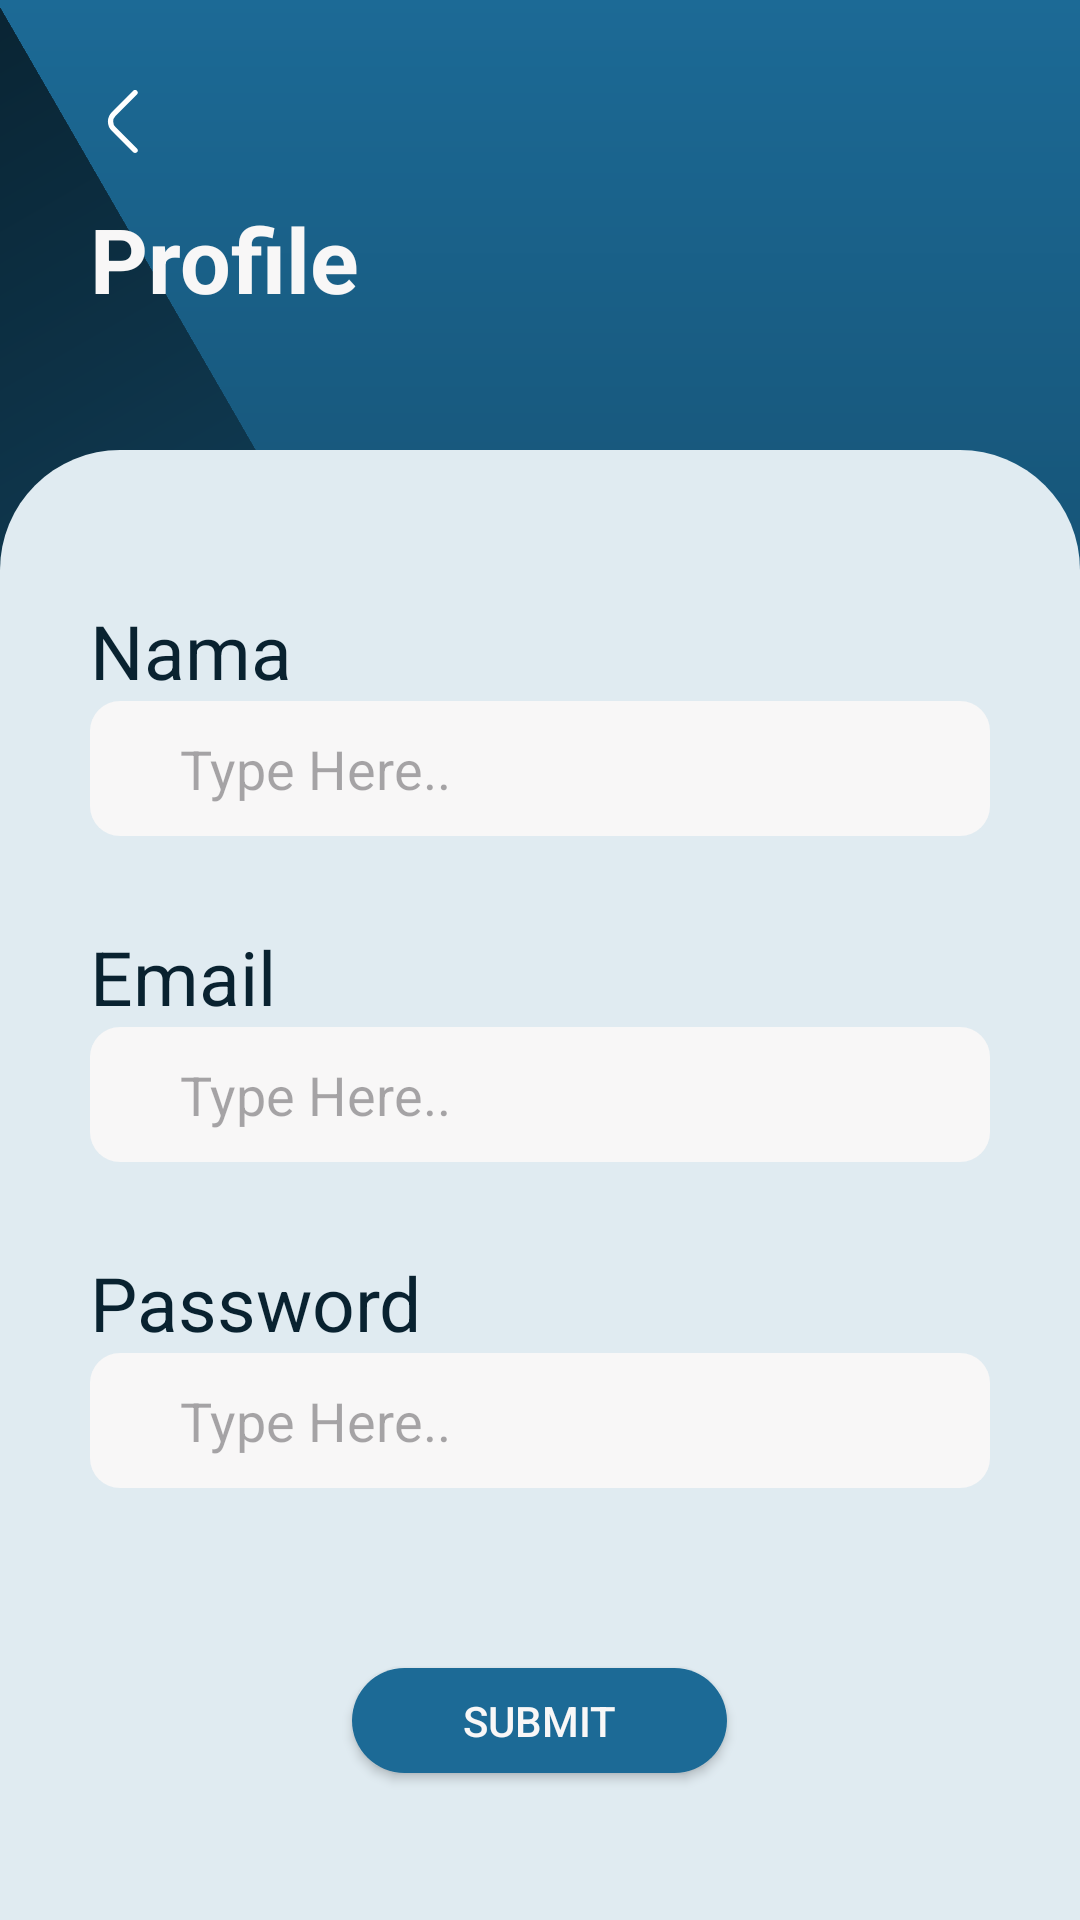

Icon bounding boxes for this 1080 × 1920 phone screenshot, format BBox(x1, y1, x2, y2):
back: BBox(108, 90, 138, 153)
